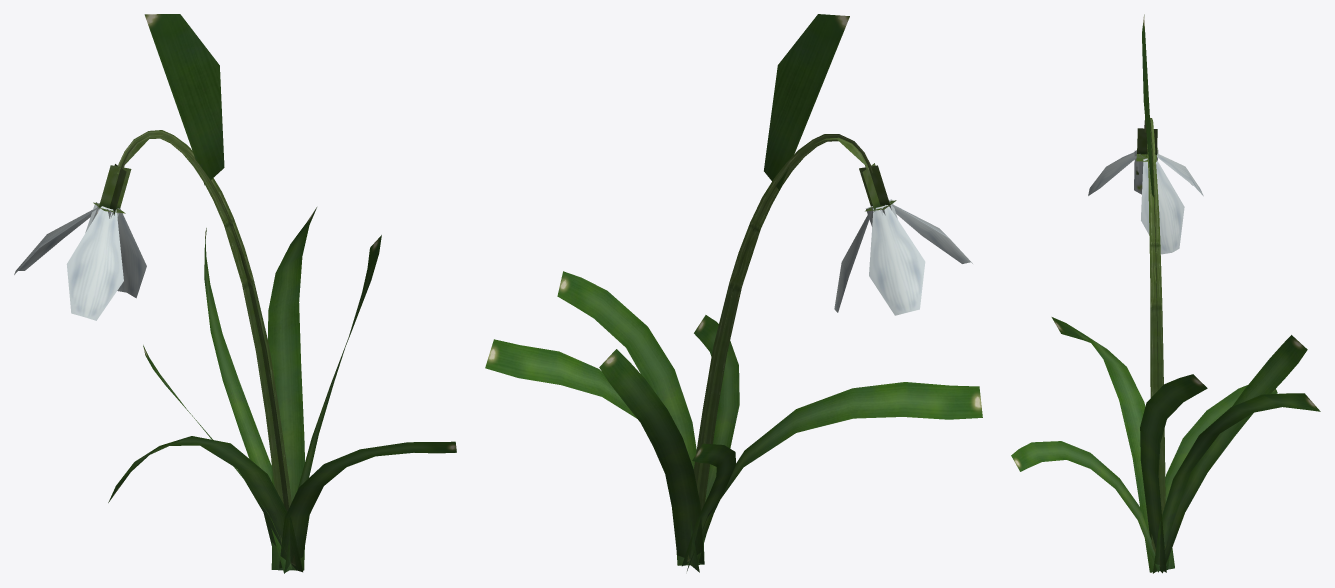
The model's file is snowdrop.glb.
3 renders of one model, left to right at view 1: azimuth 30°, elevation 25°; view 2: azimuth 150°, elevation 25°; view 3: azimuth 270°, elevation 25°, orthographic. The views are drawn at different scales.
Parts seen in each view (by area): view 1: snowdrop_open_1_LOD0_Snowdrop_2048_0; view 2: snowdrop_open_1_LOD0_Snowdrop_2048_0; view 3: snowdrop_open_1_LOD0_Snowdrop_2048_0.
Part boxes in pixels (x1=…): snowdrop_open_1_LOD0_Snowdrop_2048_0: x1=14, y1=14, x2=456, y2=573; snowdrop_open_1_LOD0_Snowdrop_2048_0: x1=485, y1=14, x2=982, y2=572; snowdrop_open_1_LOD0_Snowdrop_2048_0: x1=1011, y1=14, x2=1320, y2=573.
Size of the model in its own units: 0.6488 by 1 by 0.5686.
1 material, 1 textured.
